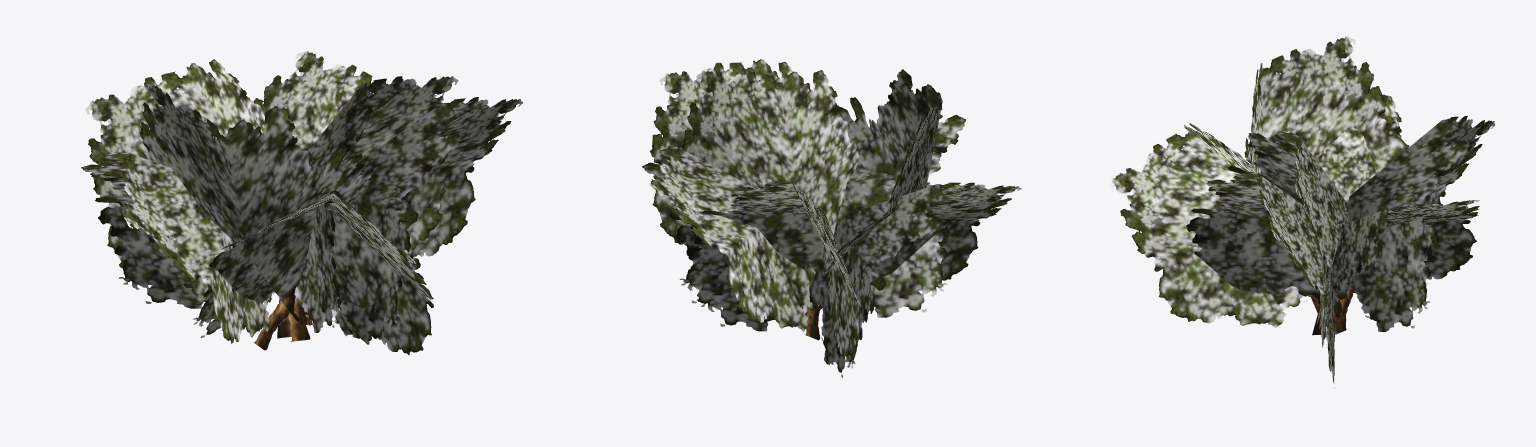
File: mbushsno_1.dae
3 views of the same model, side by side, from view 1: azimuth 30°, elevation 25°; view 2: azimuth 150°, elevation 25°; view 3: azimuth 270°, elevation 25° (orthographic). The views are drawn at different scales.
Parts seen in each view (by area): view 1: mbushsno_1; view 2: mbushsno_1; view 3: mbushsno_1.
Part boxes in pixels (<box>): mbushsno_1: <box>81,50,522,354</box>; mbushsno_1: <box>642,59,1021,377</box>; mbushsno_1: <box>1109,36,1495,388</box>.
Bounding box in the file's own units: 4.75 × 4.57 × 3.87.
1 material, 1 textured.
